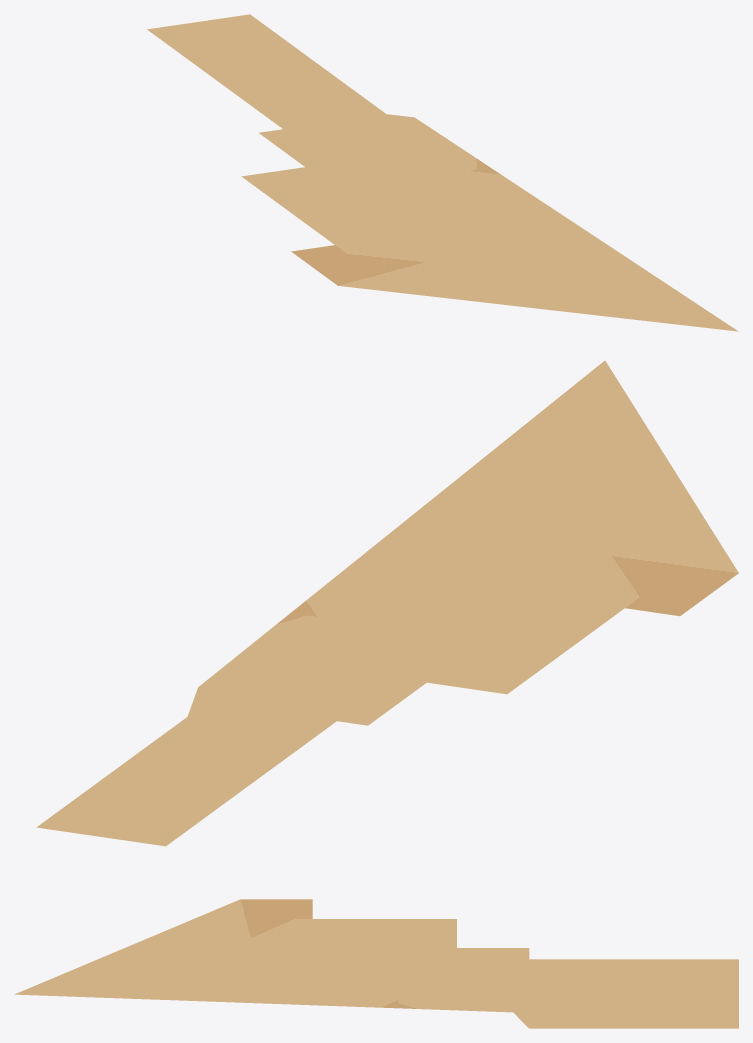
3 renders of one model, top to bottom at view 1: azimuth 30°, elevation 25°; view 2: azimuth 150°, elevation 25°; view 3: azimuth 270°, elevation 25°, orthographic. The views are drawn at different scales.
Size of the model in its own units: 0.2236 by 0.0373 by 0.7187.
1 material, 1 textured.
